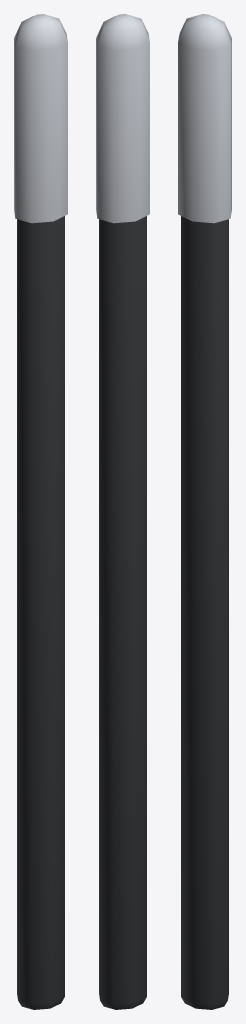
File: Brush Shader.glb
3 renders of one model, left to right at view 1: azimuth 30°, elevation 25°; view 2: azimuth 210°, elevation 25°; view 3: azimuth 330°, elevation 25°, orthographic.
Parts seen in each view (by area): view 1: brush_shader.001, brush_shader_lid.001; view 2: brush_shader.001, brush_shader_lid.001; view 3: brush_shader.001, brush_shader_lid.001.
Part boxes in pixels (x1,y1,x2,y2): brush_shader.001: (17,216,64,1009); brush_shader_lid.001: (14,14,67,223); brush_shader.001: (99,216,146,1009); brush_shader_lid.001: (96,14,149,223); brush_shader.001: (181,216,228,1009); brush_shader_lid.001: (178,14,231,223).
Bounding box in the file's own units: 1.53 × 28.13 × 1.28.
Materials: 2 (2 with a texture image).
